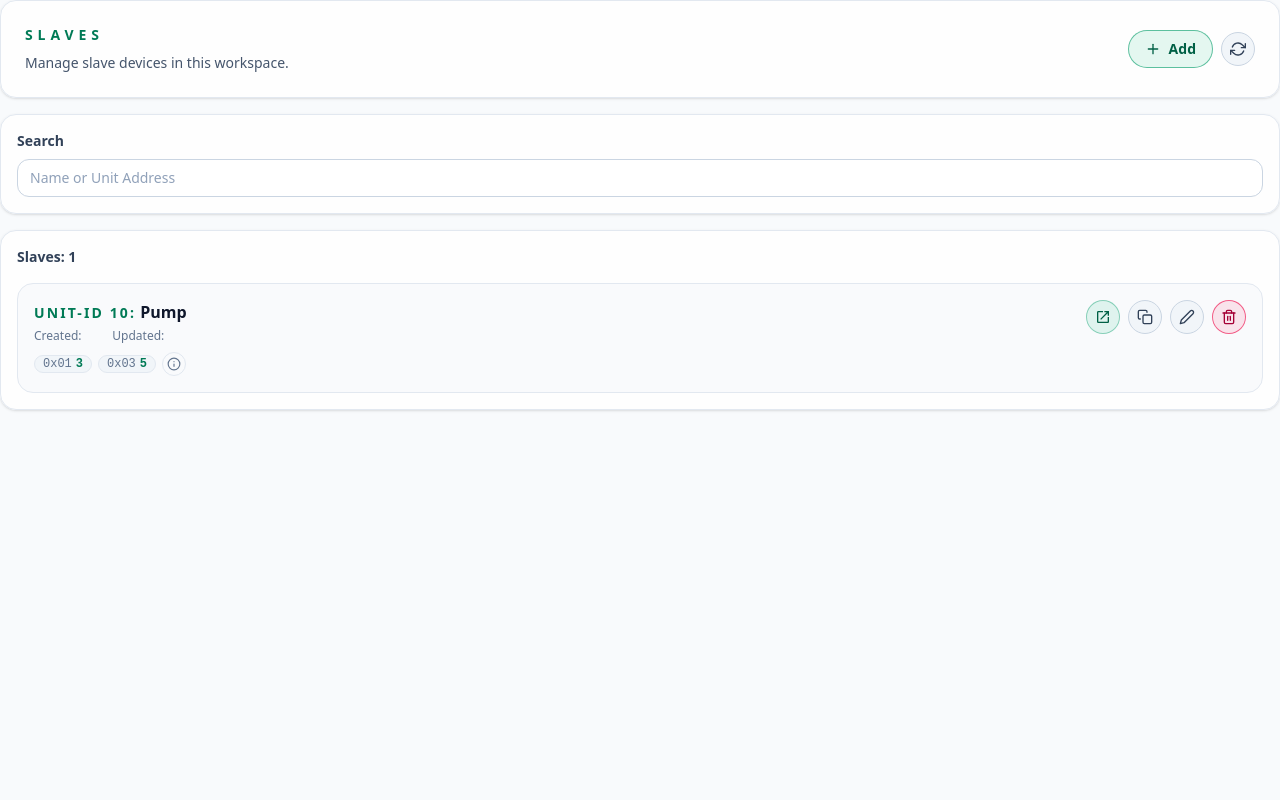
SlavesPage › shows non-zero register counts and opens the details modal
Expected: the button "Unit-ID 10: Pump" is shown, [34, 300, 187, 324]
Expected: the text "0x01" is shown, [43, 358, 72, 370]
Click the button named "register details" at (174, 364), box [162, 352, 186, 376]
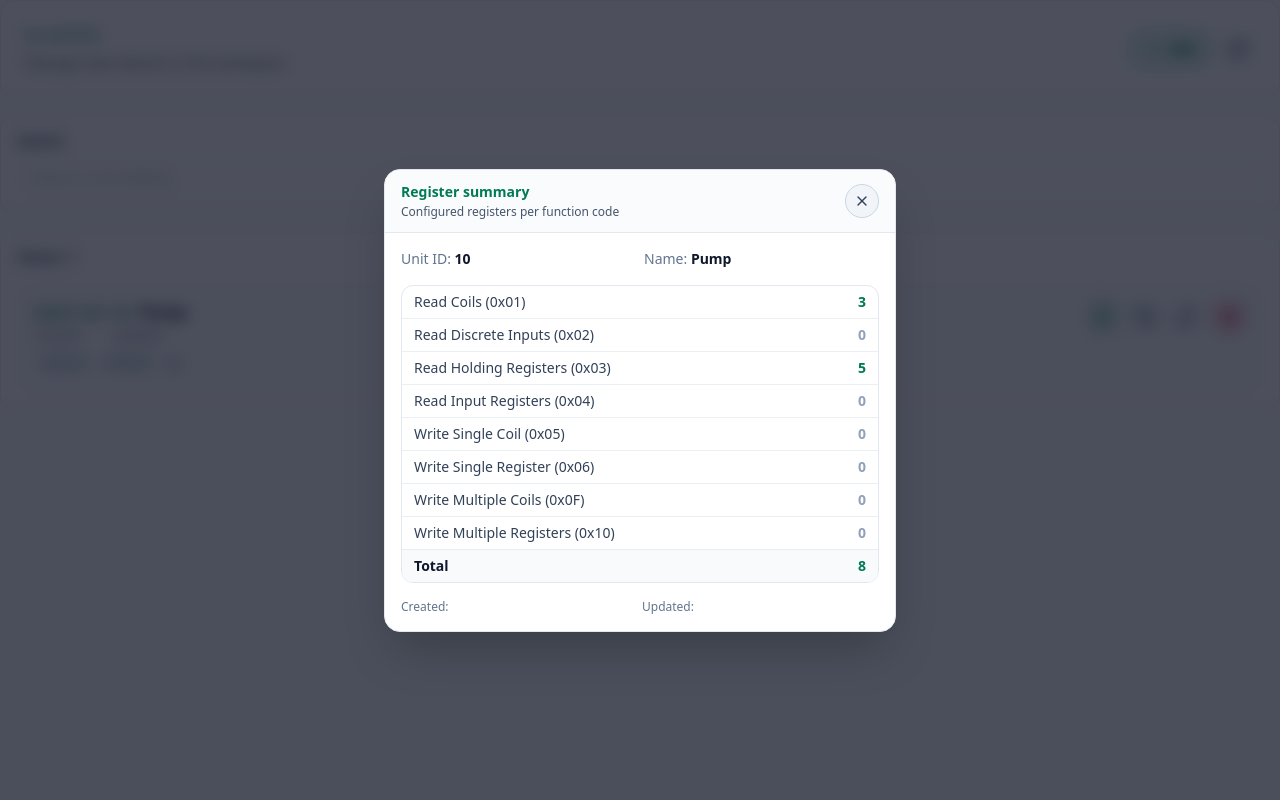
Now the text "Read Coils (0x01)" is shown, box [402, 286, 819, 318]
Now the text "Read Holding Registers (0x03)" is shown, box [402, 351, 819, 384]
Now the text "Total" is shown, box [402, 549, 819, 582]
